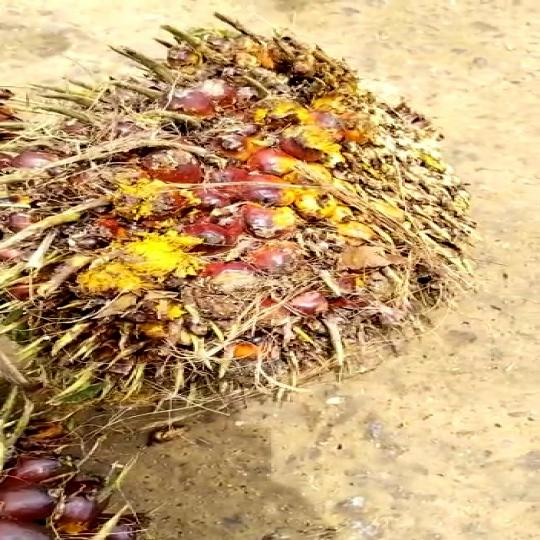masak: (0, 16, 502, 430)
